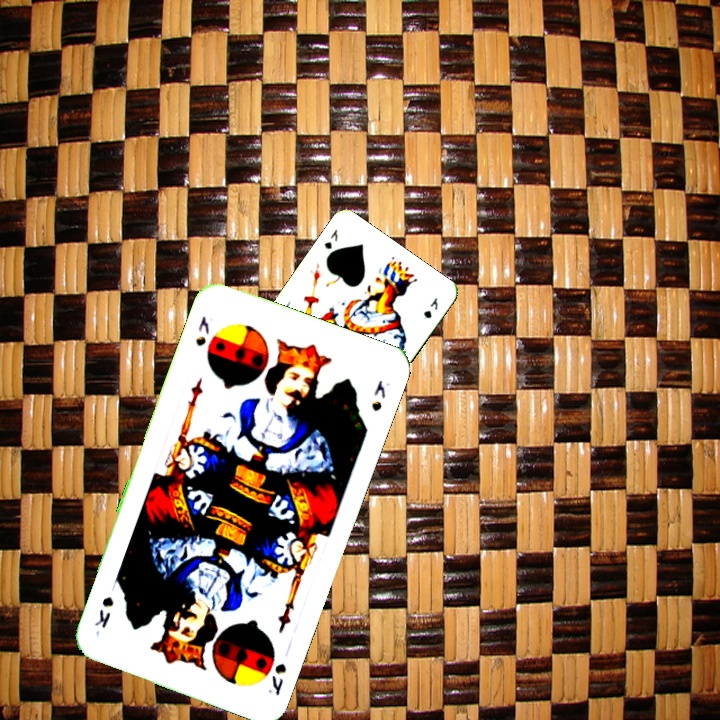GK: (320, 225, 341, 252)
SK: (264, 659, 289, 699), (191, 312, 212, 349)
